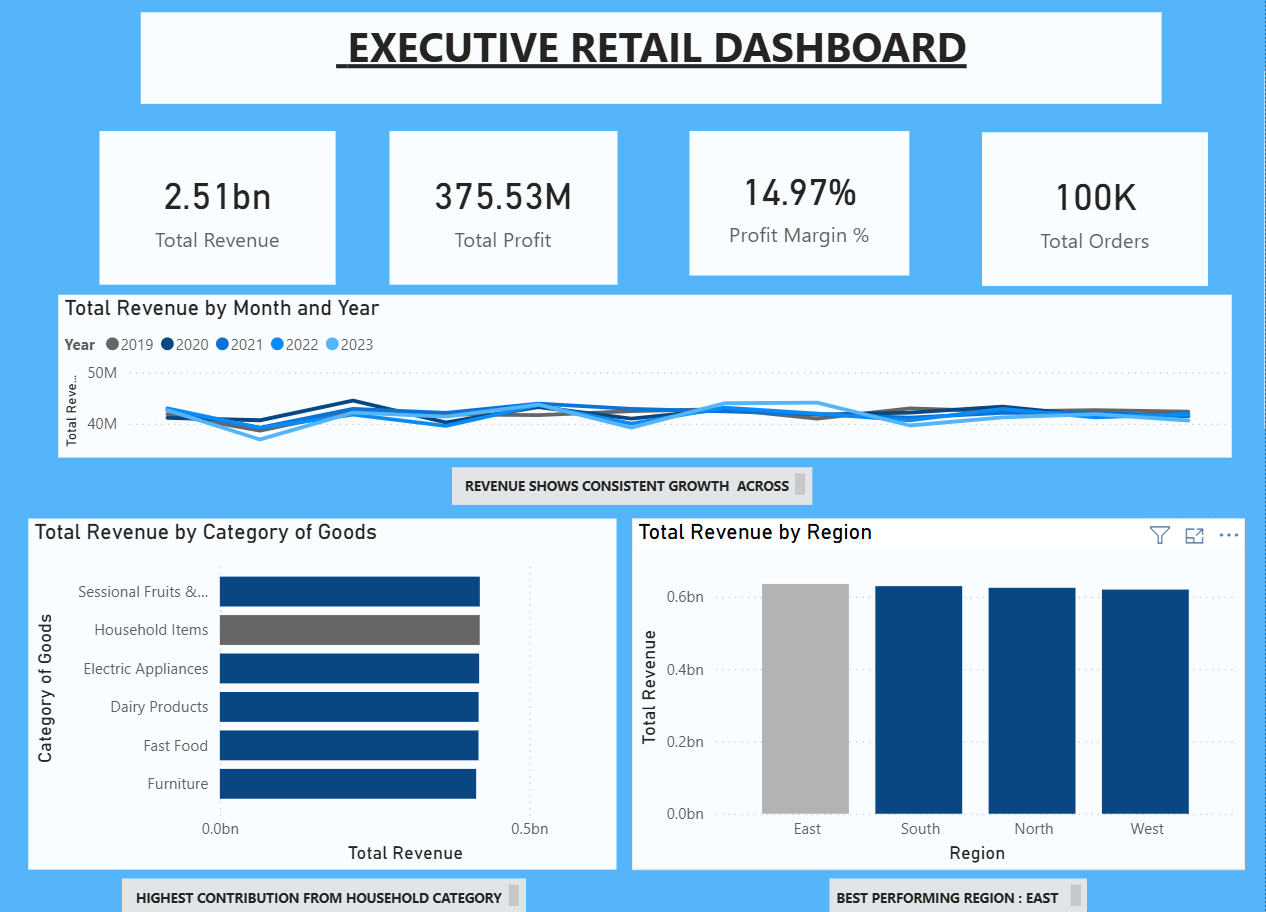

Layout of this report page (visuals, bound fields, positions):
{"tool":"powerbi","page":{"name":"Page 1","canvas":[1000,720],"ordinal":0},"visuals":[{"type":"clusteredColumnChart","box":[999.9,59.2,280.5,280.5],"z":0},{"type":"tableEx","fields":{"Values":["Sum(store_sales_data (2).Year)"]},"box":[1130.5,362.3,149.8,280.5],"z":1000},{"type":"lineClusteredColumnComboChart","fields":{"Y":["store_sales_data (2).Total Revenue"],"Category":["store_sales_data (2).Region"]},"box":[503.1,410.7,481.4,276.1],"z":2000},{"type":"clusteredBarChart","fields":{"Category":["store_sales_data (2).Category of Goods"],"Y":["store_sales_data (2).Total Revenue"]},"box":[28.5,410.7,462.8,276.1],"z":3000},{"type":"textbox","box":[116.9,12.8,802.7,71.7],"z":4000},{"type":"card","fields":{"Values":["store_sales_data (2).Total Revenue"]},"box":[84.5,106.1,185.7,120.9],"z":5000},{"type":"card","fields":{"Values":["store_sales_data (2).Total Profit"]},"box":[312.4,106.1,178.8,120.9],"z":6000},{"type":"card","fields":{"Values":["store_sales_data (2).Profit Margin %"]},"box":[548.3,106.1,172.9,114],"z":7000},{"type":"card","fields":{"Values":["store_sales_data (2).Total Orders"]},"box":[778.2,107.1,177.8,120.9],"z":8000},{"type":"lineChart","fields":{"Series":["store_sales_data (2).Year"],"Y":["store_sales_data (2).Total Revenue"],"Category":["store_sales_data (2).Order Date.Variation.Date Hierarchy.Month"]},"box":[52.1,234.8,922.6,127.7],"z":9000},{"type":"textbox","box":[102.2,693.7,317.4,26.5],"z":10000},{"type":"textbox","box":[361.6,370.4,283,29.5],"z":11000},{"type":"textbox","box":[658.3,693.7,202.4,26.5],"z":12000}]}

Visuals, with their boxes in screenshot pixels (x1, y1, x2, y2), scaled from the page's 1000x720 canvas onto the 1266x912 screenshot:
lineClusteredColumnComboChart - store_sales_data (2).Total Revenue x store_sales_data (2).Region: 637,520,1246,870
clusteredBarChart - store_sales_data (2).Category of Goods x store_sales_data (2).Total Revenue: 36,520,622,870
textbox: 148,16,1164,107
card - store_sales_data (2).Total Revenue: 107,134,342,288
card - store_sales_data (2).Total Profit: 395,134,622,288
card - store_sales_data (2).Profit Margin %: 694,134,913,279
card - store_sales_data (2).Total Orders: 985,136,1210,289
lineChart - store_sales_data (2).Year x store_sales_data (2).Total Revenue: 66,297,1234,459
textbox: 129,879,531,911
textbox: 458,469,816,507
textbox: 833,879,1090,911
